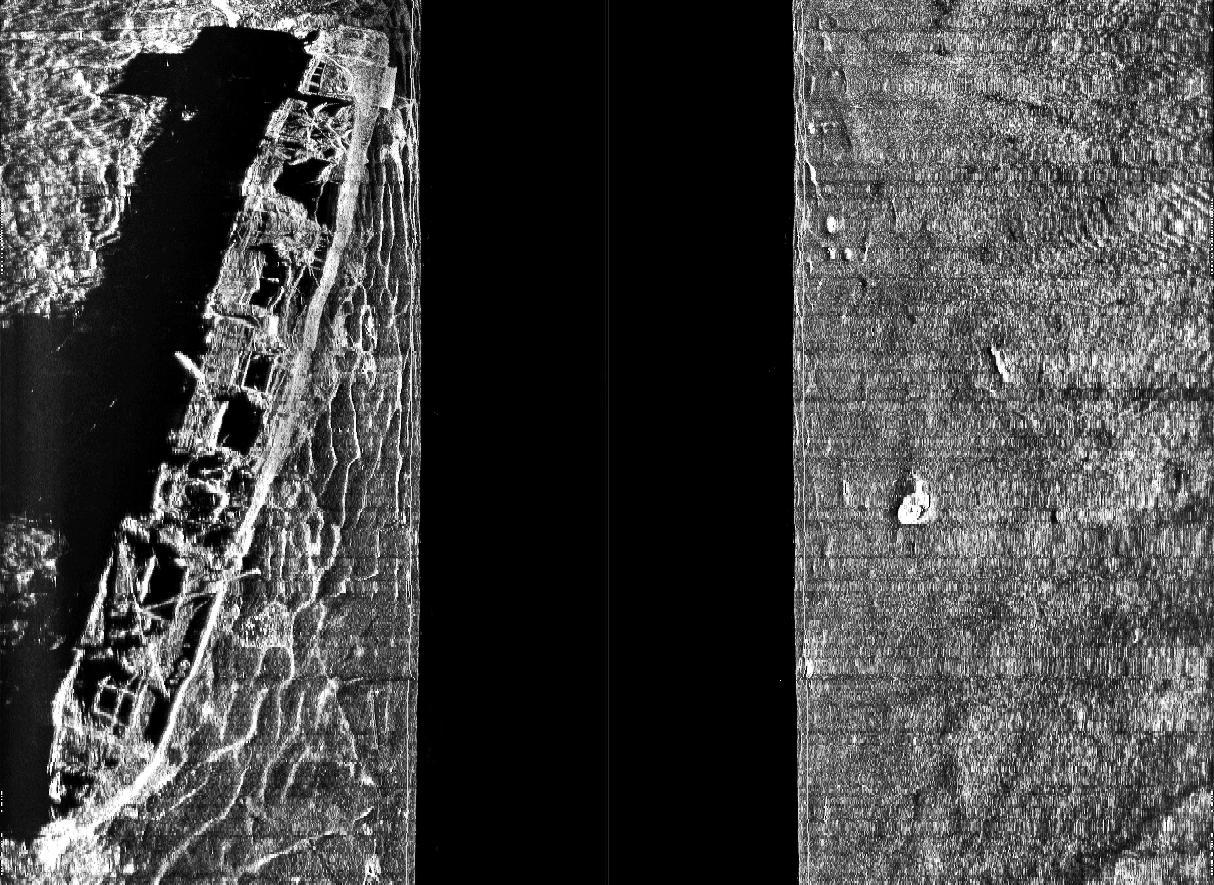ship: (30, 25, 400, 869)
